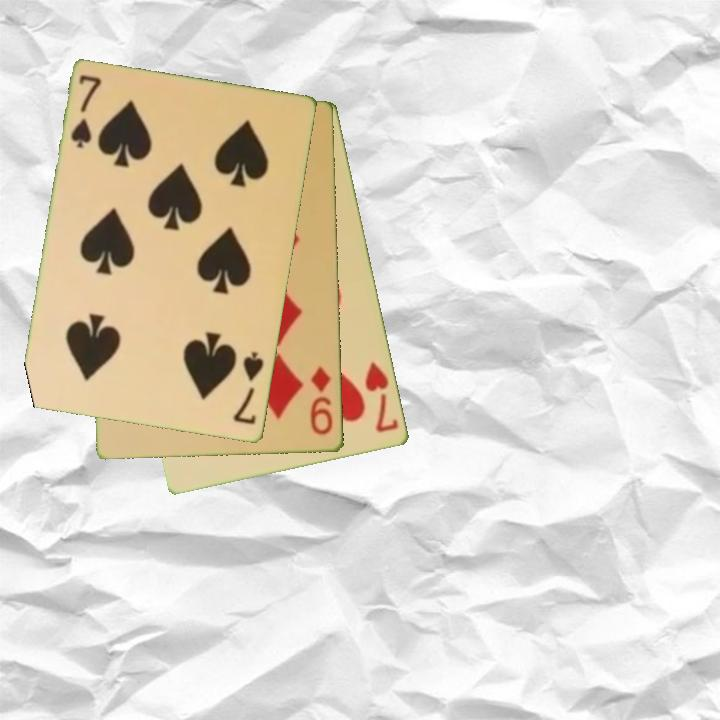7h: (362, 358, 402, 436)
7s: (230, 348, 267, 428), (68, 72, 105, 152)
9d: (307, 363, 336, 438)
